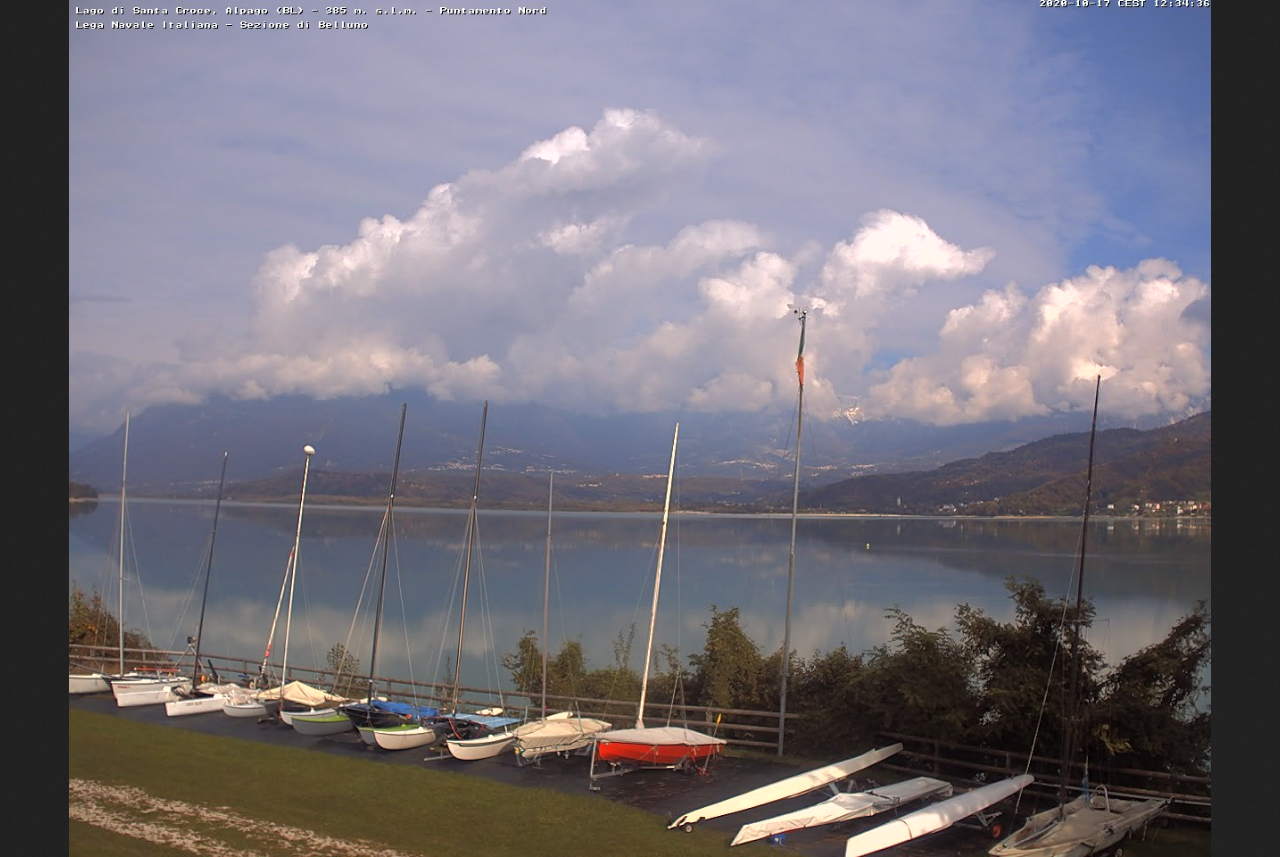no: (793, 316, 804, 387)
